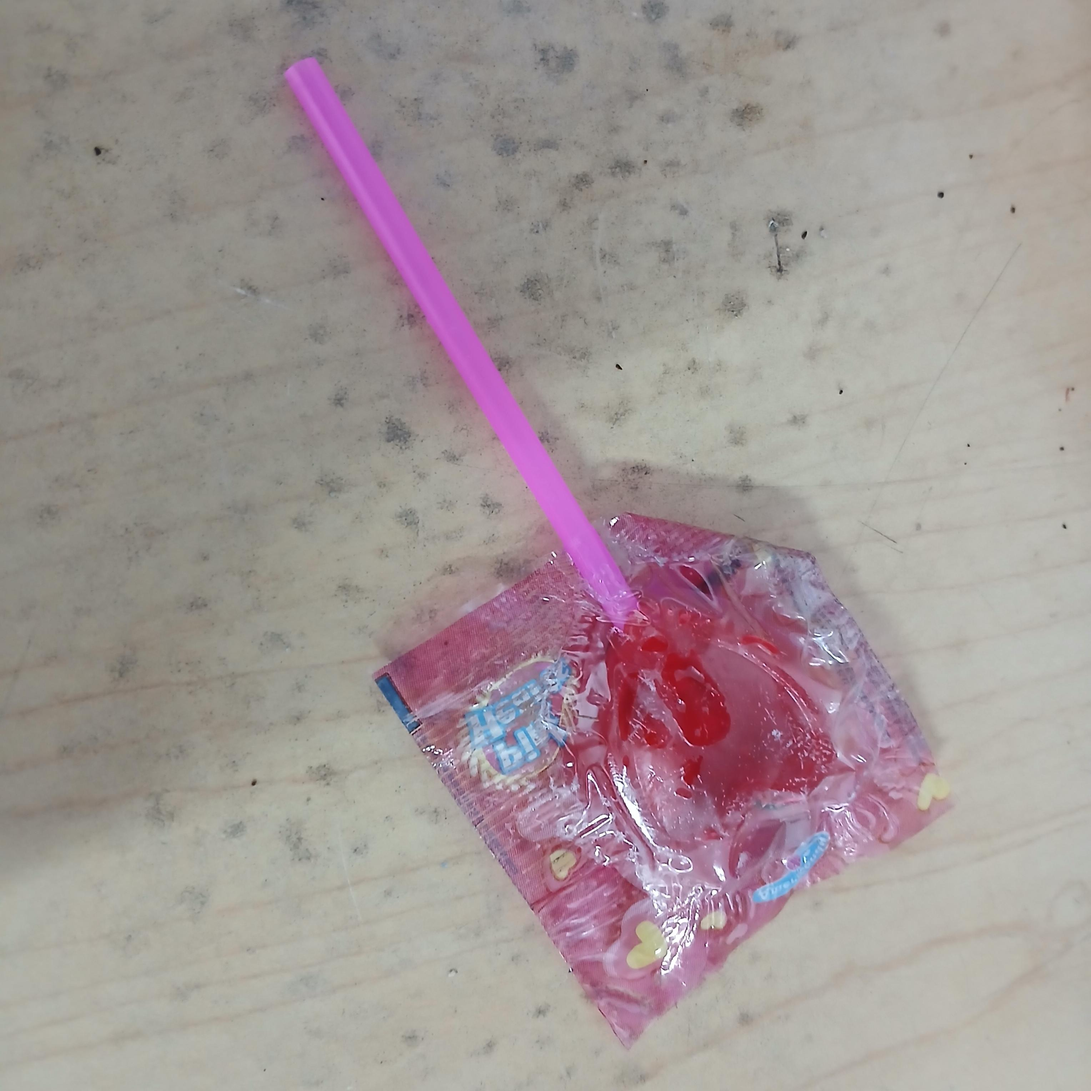Ordinario: (285, 29, 957, 1053)
